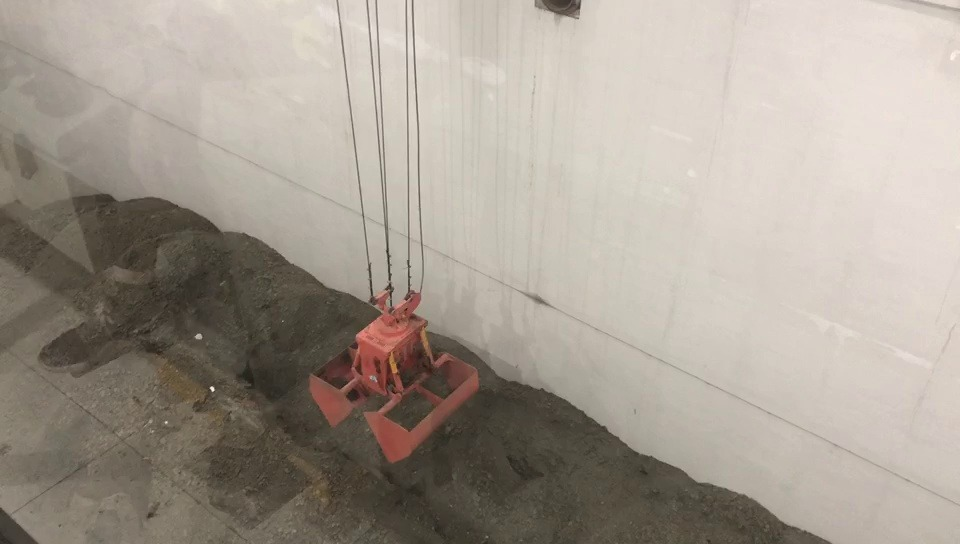grab: (305, 276, 482, 463)
